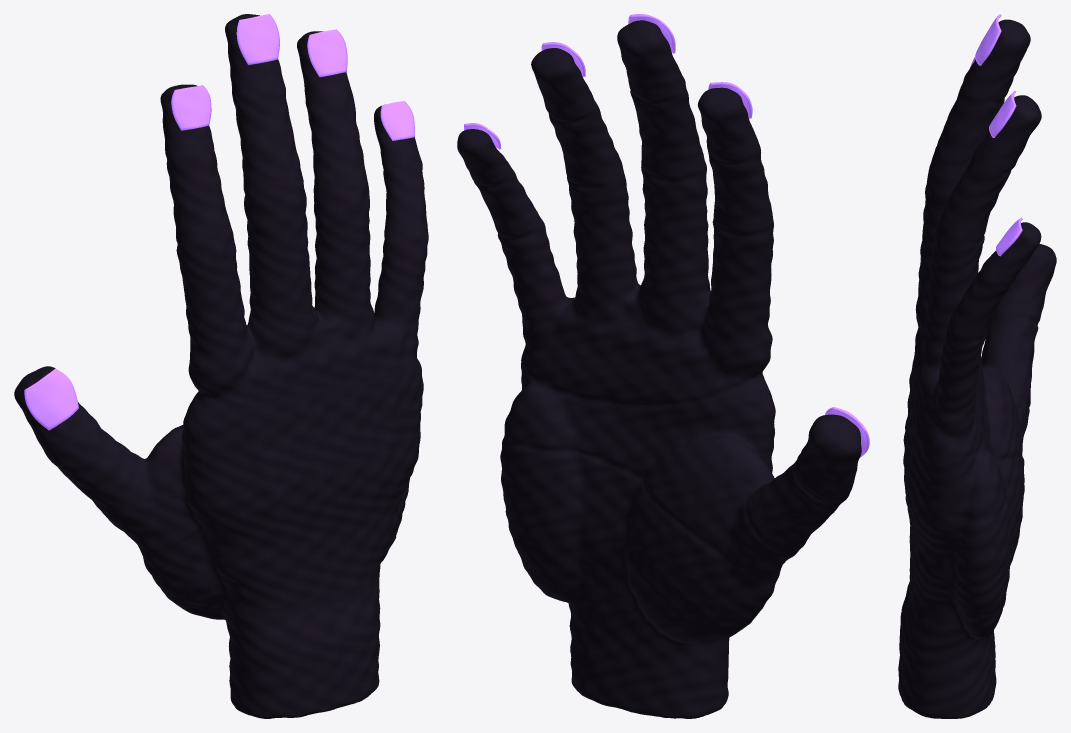
File: family-11.glb
3 renders of one model, left to right at view 1: azimuth 30°, elevation 25°; view 2: azimuth 150°, elevation 25°; view 3: azimuth 270°, elevation 25°, orthographic. The views are drawn at different scales.
Visible parts, largest first — view 1: knuckles__knuckles_sculpt, back_of_hand__back_of_hand_sculpt, middle_sections__middle_sections_sculpt, wrist__wrist_sculpt, fingertips__fingertips_sculpt, palm__palm_sculpt, nails__thumb_claw, nails__middle_claw, nails__ring_claw, nails__index_claw, nails__pinky_claw; view 2: knuckles__knuckles_sculpt, palm__palm_sculpt, middle_sections__middle_sections_sculpt, wrist__wrist_sculpt, fingertips__fingertips_sculpt; view 3: palm__palm_sculpt, knuckles__knuckles_sculpt, middle_sections__middle_sections_sculpt, wrist__wrist_sculpt, back_of_hand__back_of_hand_sculpt, fingertips__fingertips_sculpt, nails__middle_claw, nails__ring_claw, nails__pinky_claw.
Part boxes in pixels (left/top/right/bottom): knuckles__knuckles_sculpt: left=102, top=173, right=428, bottom=595; back_of_hand__back_of_hand_sculpt: left=185, top=355, right=423, bottom=613; middle_sections__middle_sections_sculpt: left=44, top=77, right=427, bottom=513; wrist__wrist_sculpt: left=176, top=559, right=383, bottom=718; fingertips__fingertips_sculpt: left=14, top=14, right=419, bottom=451; palm__palm_sculpt: left=165, top=402, right=409, bottom=605; nails__thumb_claw: left=24, top=368, right=78, bottom=430; nails__middle_claw: left=236, top=14, right=279, bottom=65; nails__ring_claw: left=307, top=29, right=347, bottom=77; nails__index_claw: left=171, top=85, right=211, bottom=130; nails__pinky_claw: left=380, top=101, right=414, bottom=140; knuckles__knuckles_sculpt: left=495, top=153, right=806, bottom=621; palm__palm_sculpt: left=500, top=341, right=771, bottom=631; middle_sections__middle_sections_sculpt: left=471, top=73, right=852, bottom=546; wrist__wrist_sculpt: left=530, top=577, right=743, bottom=718; fingertips__fingertips_sculpt: left=457, top=20, right=861, bottom=495; palm__palm_sculpt: left=949, top=356, right=1023, bottom=632; knuckles__knuckles_sculpt: left=912, top=155, right=1030, bottom=500; middle_sections__middle_sections_sculpt: left=933, top=71, right=1040, bottom=394; wrist__wrist_sculpt: left=898, top=581, right=996, bottom=718; back_of_hand__back_of_hand_sculpt: left=903, top=370, right=951, bottom=620; fingertips__fingertips_sculpt: left=968, top=19, right=1056, bottom=316; nails__middle_claw: left=975, top=14, right=1001, bottom=65; nails__ring_claw: left=989, top=91, right=1016, bottom=137; nails__pinky_claw: left=996, top=217, right=1022, bottom=256.
Size of the model in its own units: 0.1313 by 0.2171 by 0.0473.
Materials: 2 (1 with a texture image).
